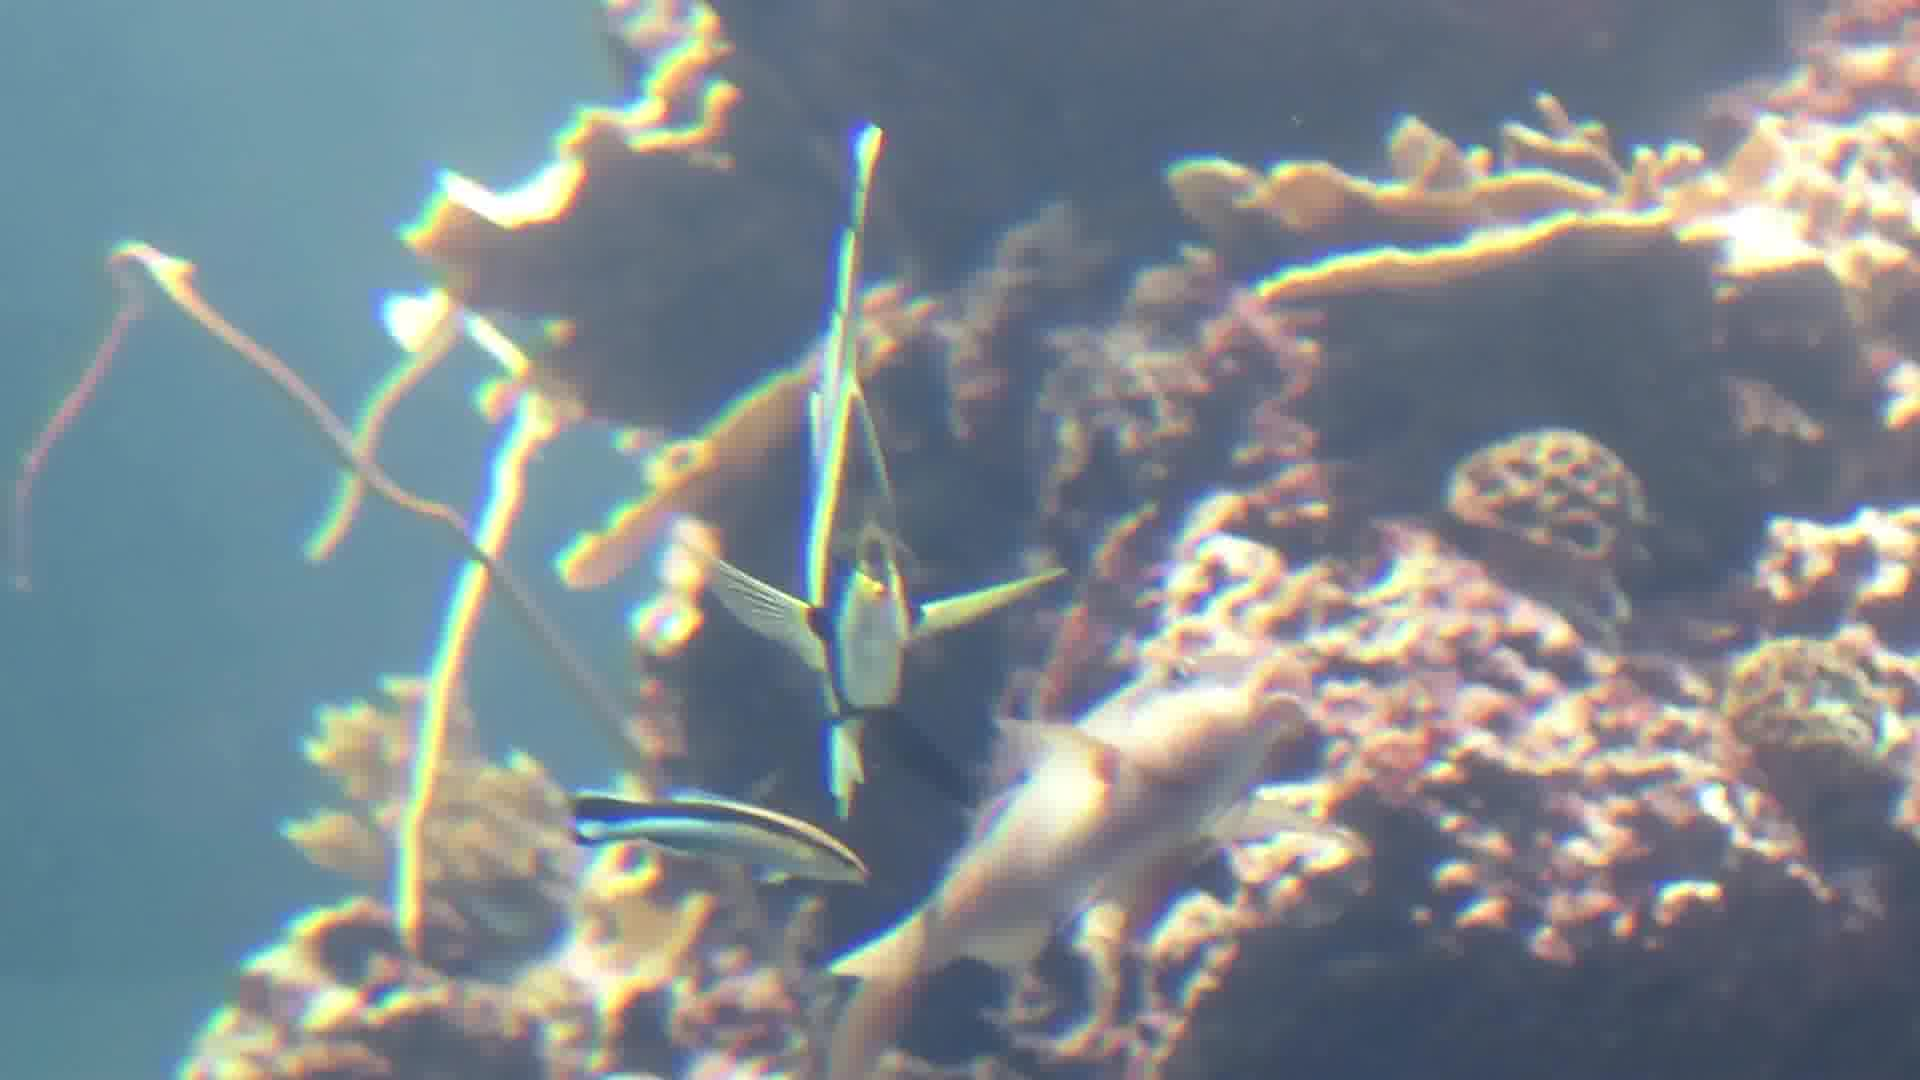Heniochus chrysostomus: (655, 66, 1098, 808)
